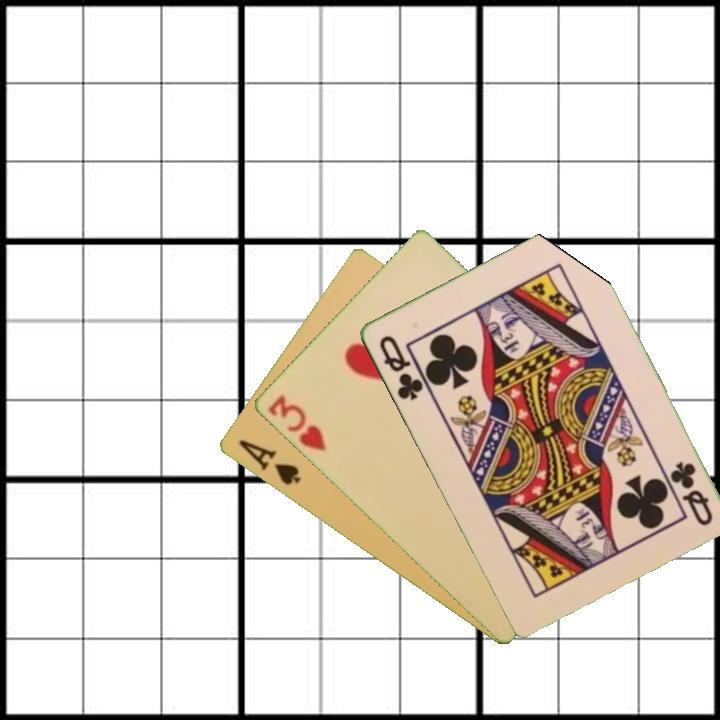3h: (264, 391, 329, 454)
As: (234, 436, 304, 488)
Qc: (375, 331, 426, 404), (666, 457, 715, 529)
